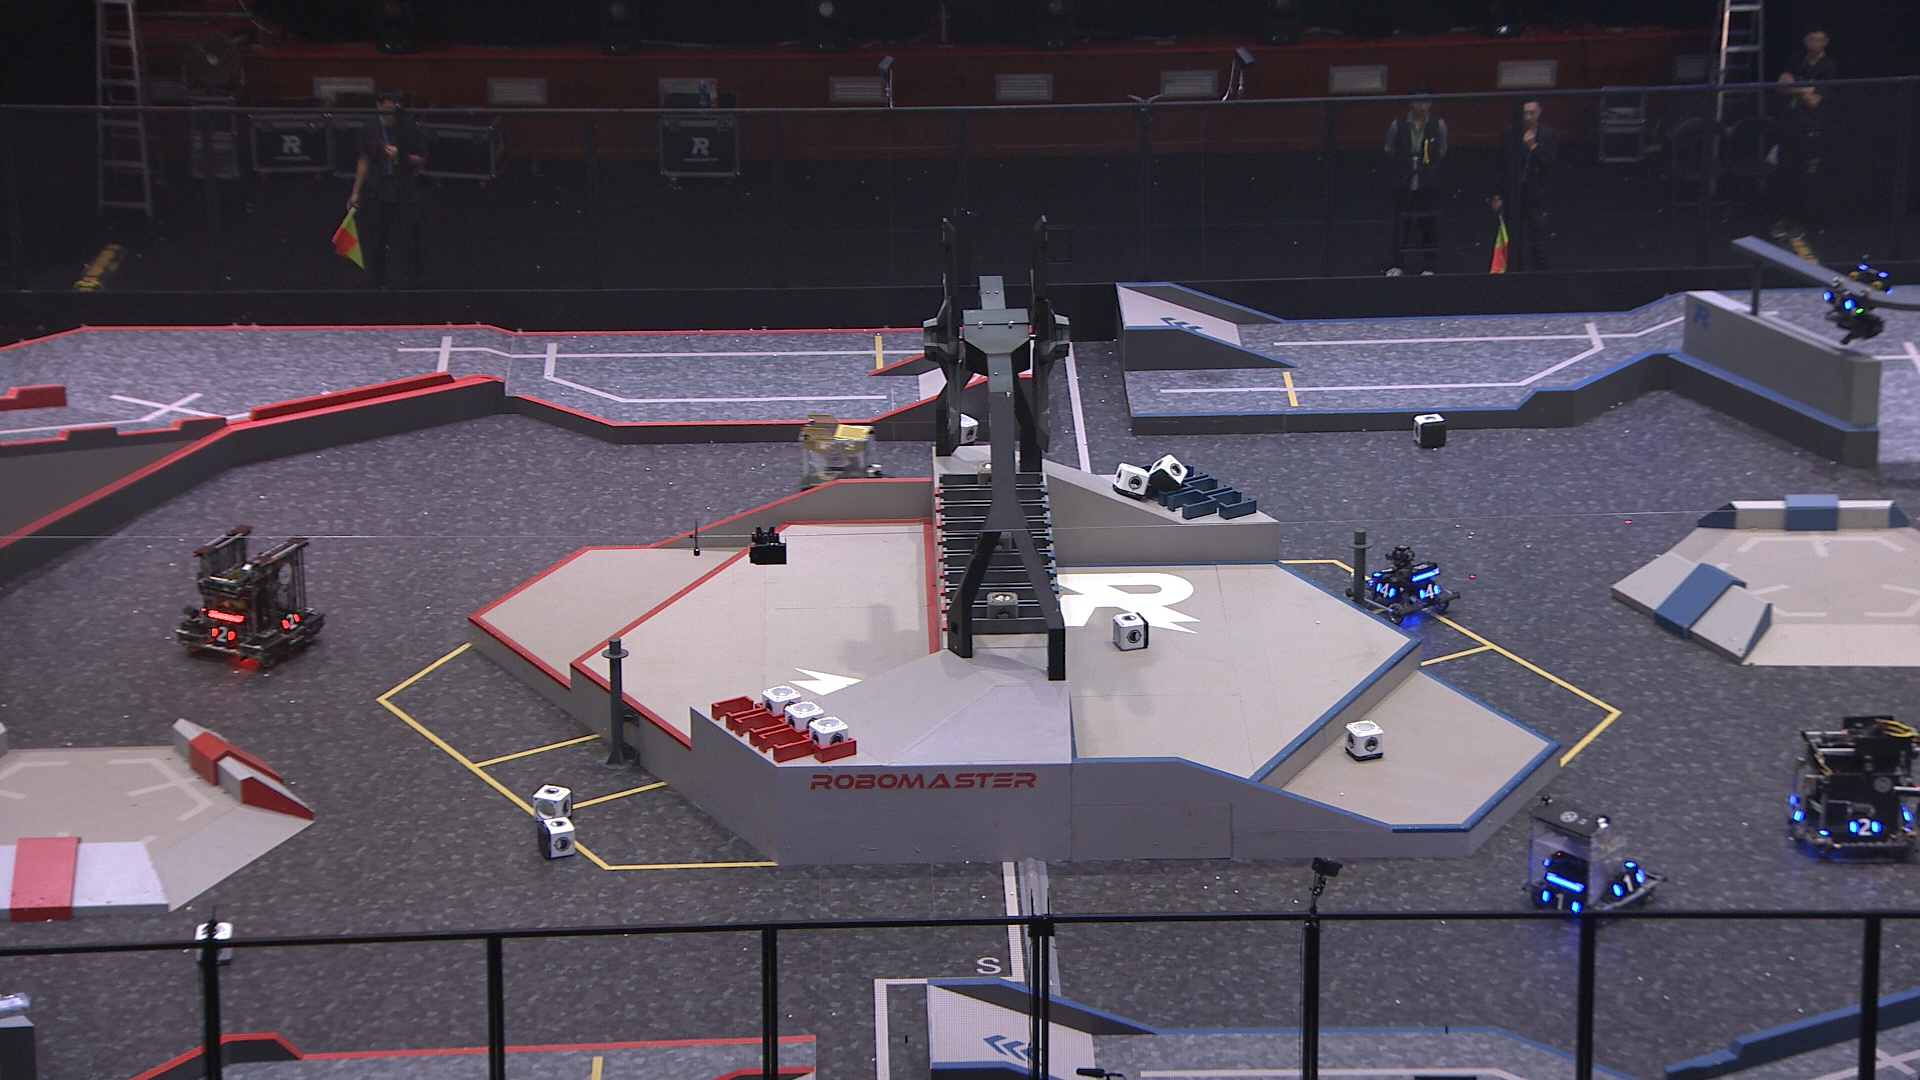armor: (1542, 891, 1581, 913), (1613, 870, 1643, 895), (1822, 289, 1854, 313), (1789, 796, 1807, 829), (210, 624, 237, 644), (1418, 582, 1443, 603), (1851, 818, 1878, 837), (281, 609, 301, 632), (1373, 582, 1396, 600), (1371, 564, 1396, 578)
car: (173, 520, 334, 673), (1783, 712, 1920, 864), (1523, 798, 1660, 924), (793, 410, 891, 529), (1348, 545, 1462, 626)
watcher: (1821, 262, 1896, 342)
